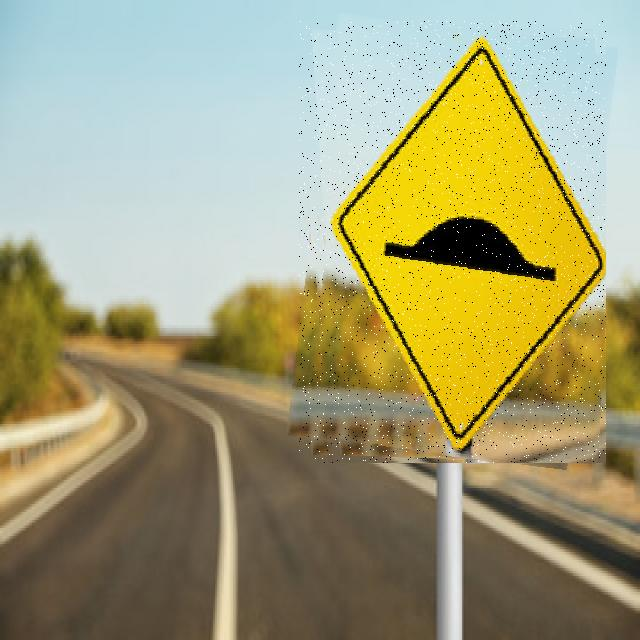hump: (299, 21, 606, 463)
